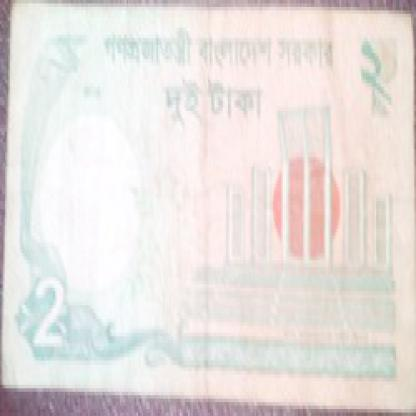two taka: (31, 284, 75, 368), (354, 42, 390, 108)
